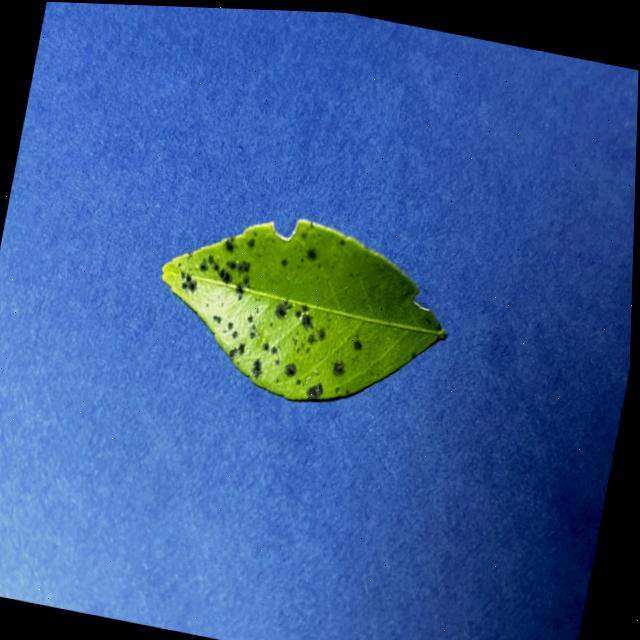sooty_mold: (163, 220, 445, 401)
